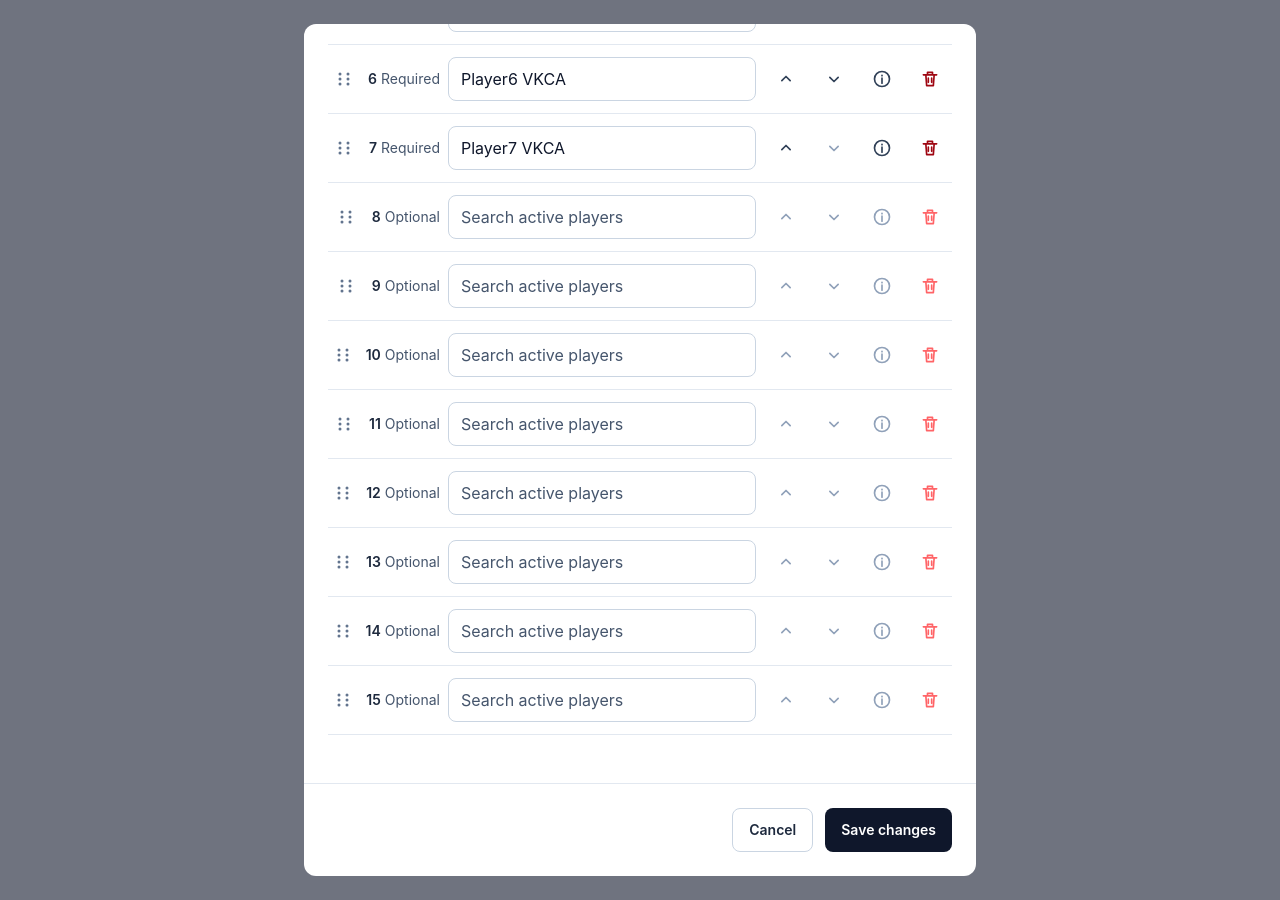
Test: TeamFormModal edit safeguards › offers a one-click reload after a stale-version conflict
The width and height of the screenshot is (1280, 900).
(page scrolled)
Click the button "Save changes" at (889, 830), box [825,808,952,852]
(page scrolled)
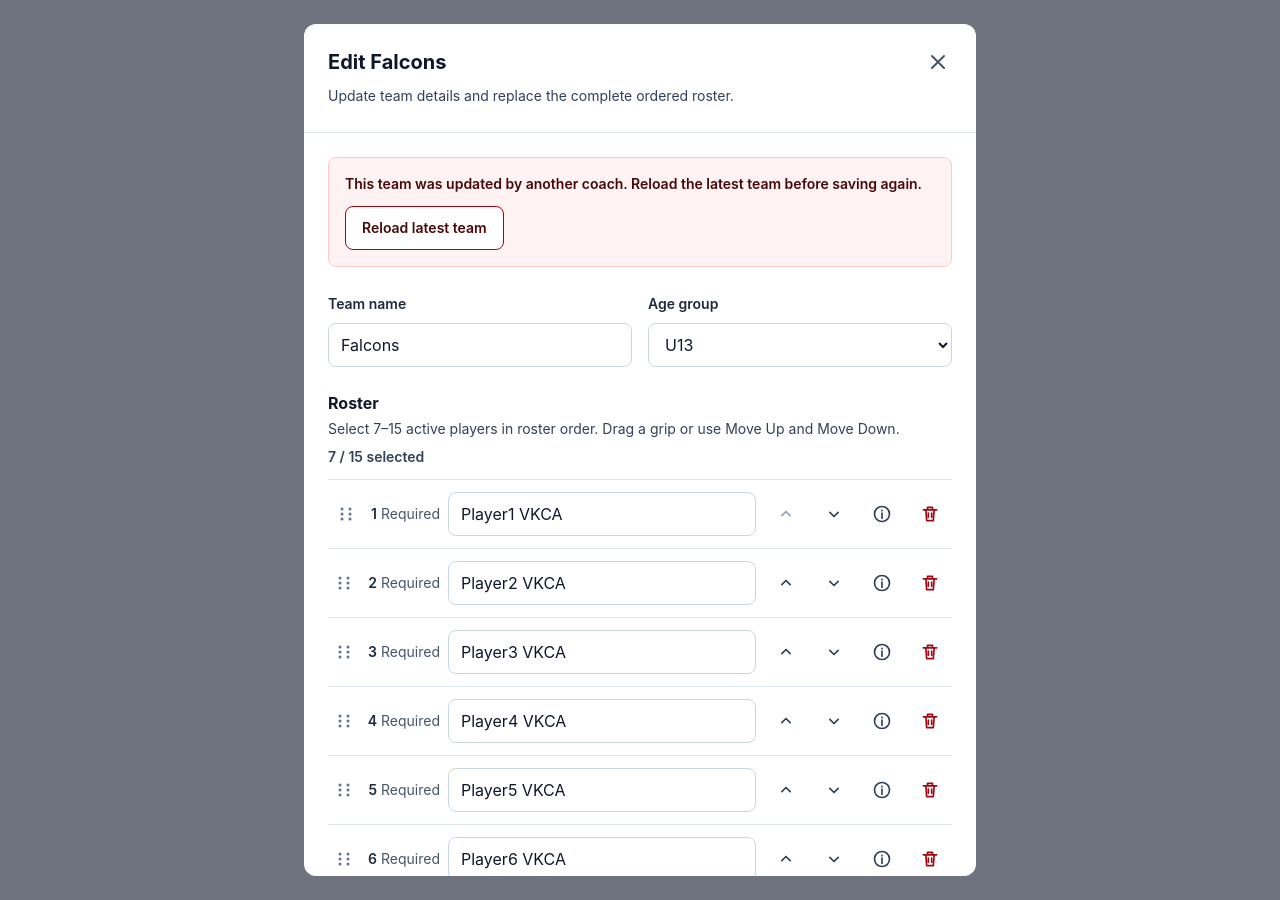
Check: the message shows "This team was updated by another coach.", box [345,175,922,192]
Click the button "Reload latest team" at (424, 228), box [345,206,504,250]
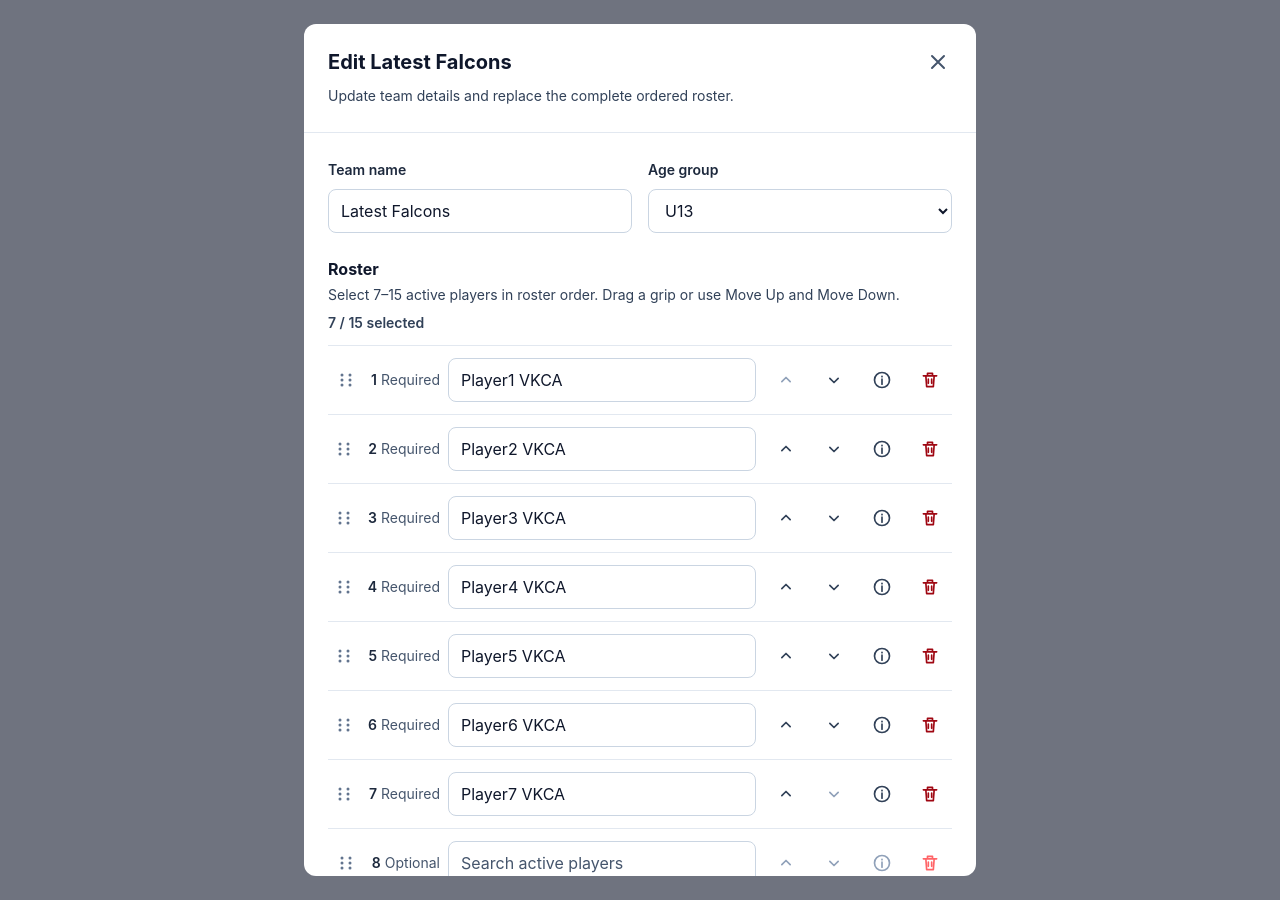
Check: the field labelled "Team name" holds "Latest Falcons", box [328,189,632,233]
